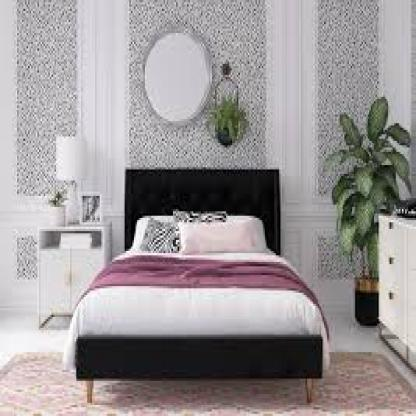Bed: (92, 159, 332, 407)
